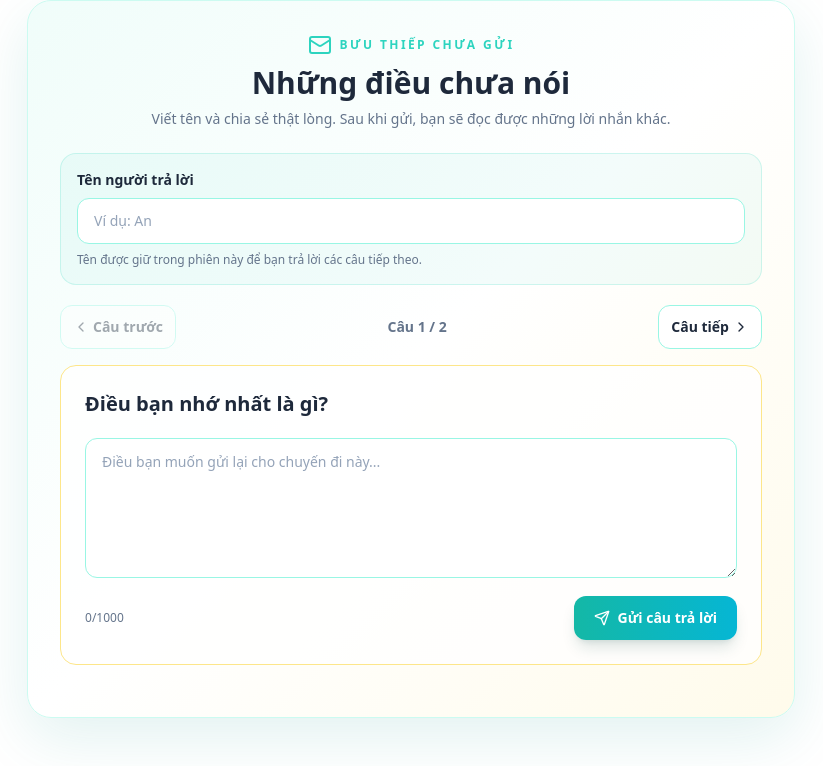
Test: TravelGameSection › moves between questions without losing each question's draft
Type "Bản nháp câu đầu" into the text box named "Câu trả lời" at (411,508), box [85,438,737,578]
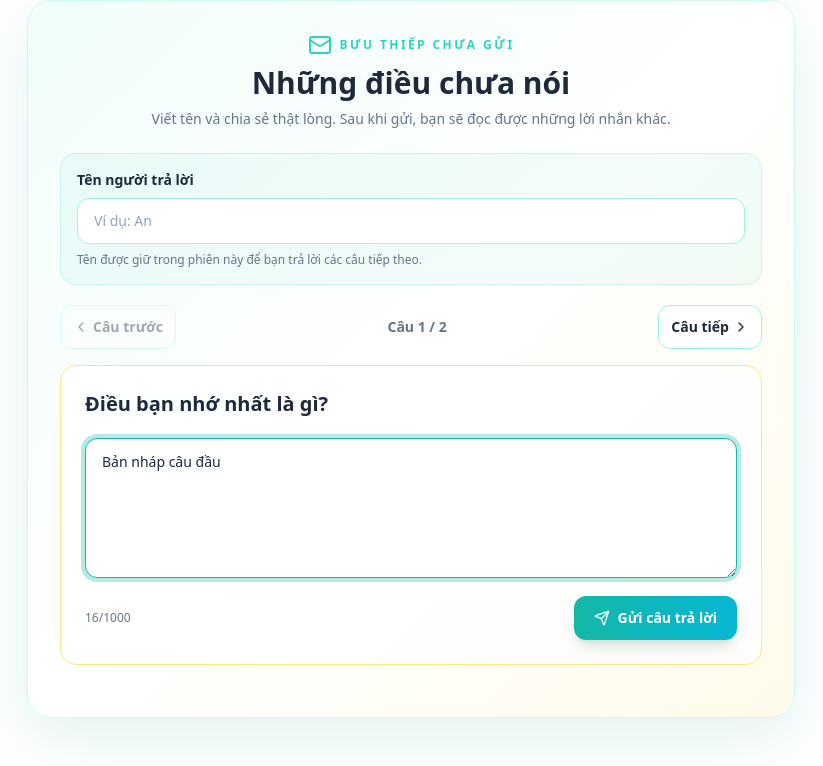
Click the button with aria-label "Câu hỏi tiếp theo" at (710,327), box [658,305,762,349]
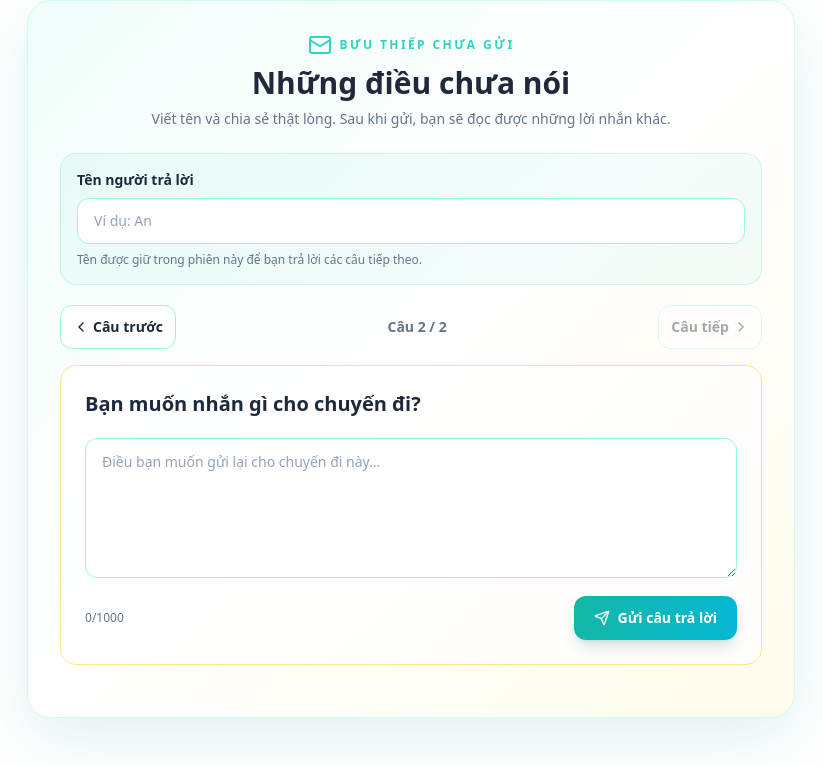
Result: the text "Bạn muốn nhắn gì cho chuyến đi?" is shown at [85,390,421,417]
Result: the text box named "Câu trả lời" is empty
Type "Bản nháp câu sau" into the text box named "Câu trả lời" at (411,508), box [85,438,737,578]
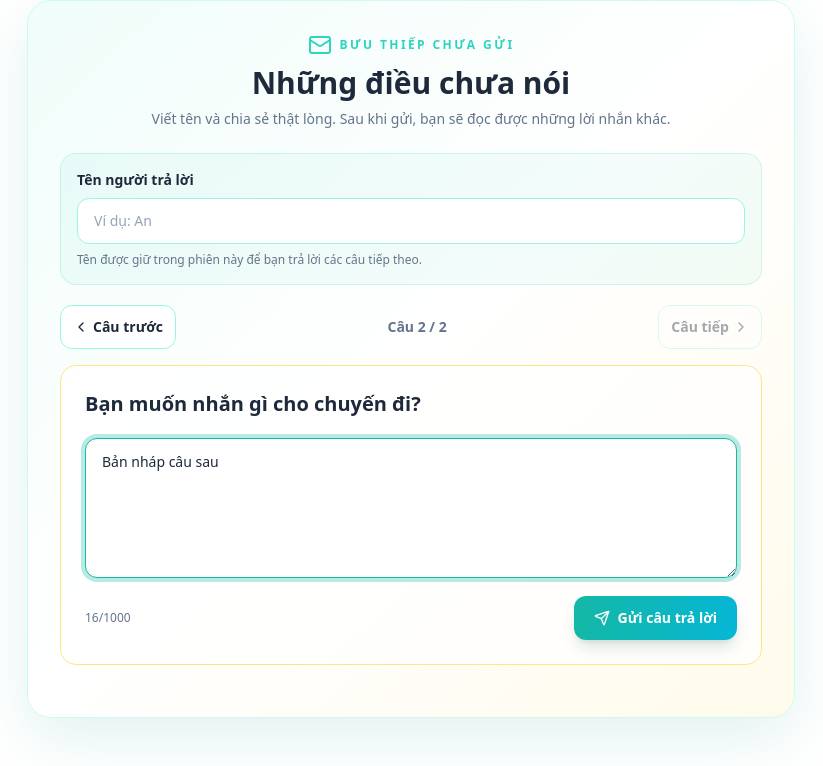
Click the button with aria-label "Câu hỏi trước" at (118,327), box [60,305,176,349]
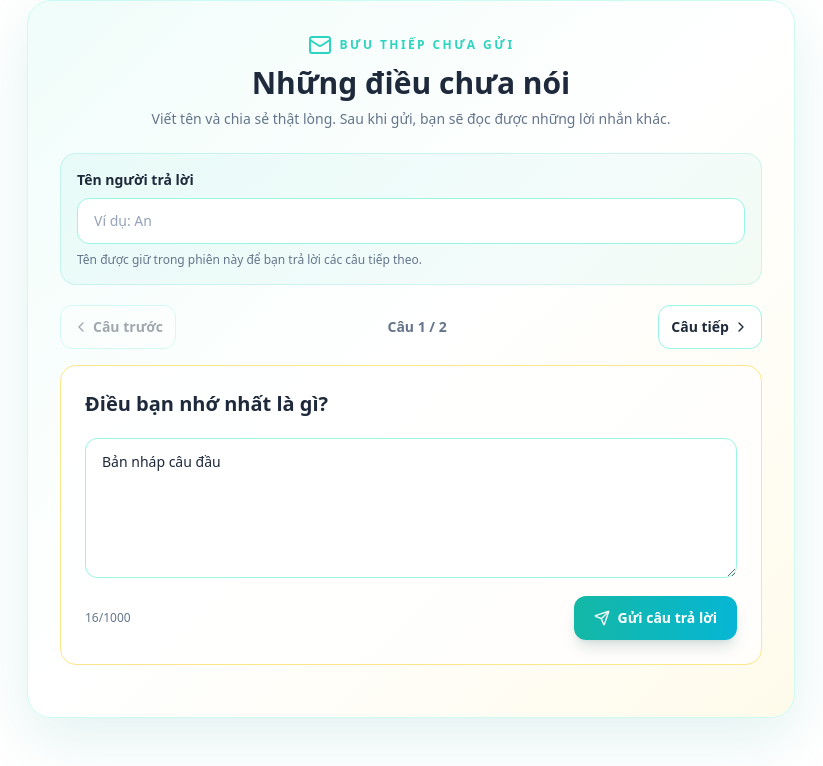
Result: the text "Điều bạn nhớ nhất là gì?" is shown at [85,390,328,417]
